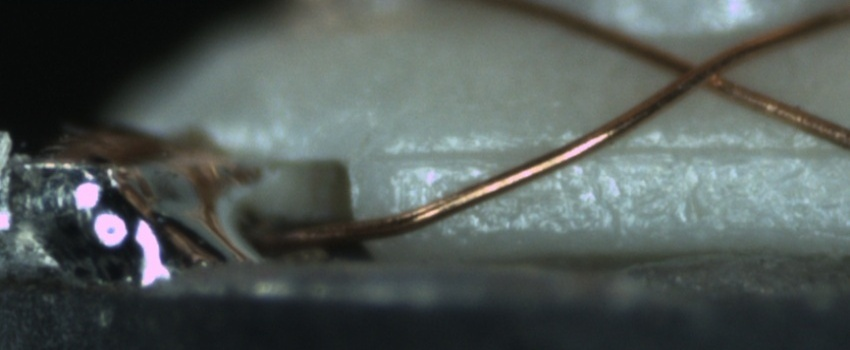CL: (653, 41, 746, 101)
DL: (389, 129, 849, 185)
